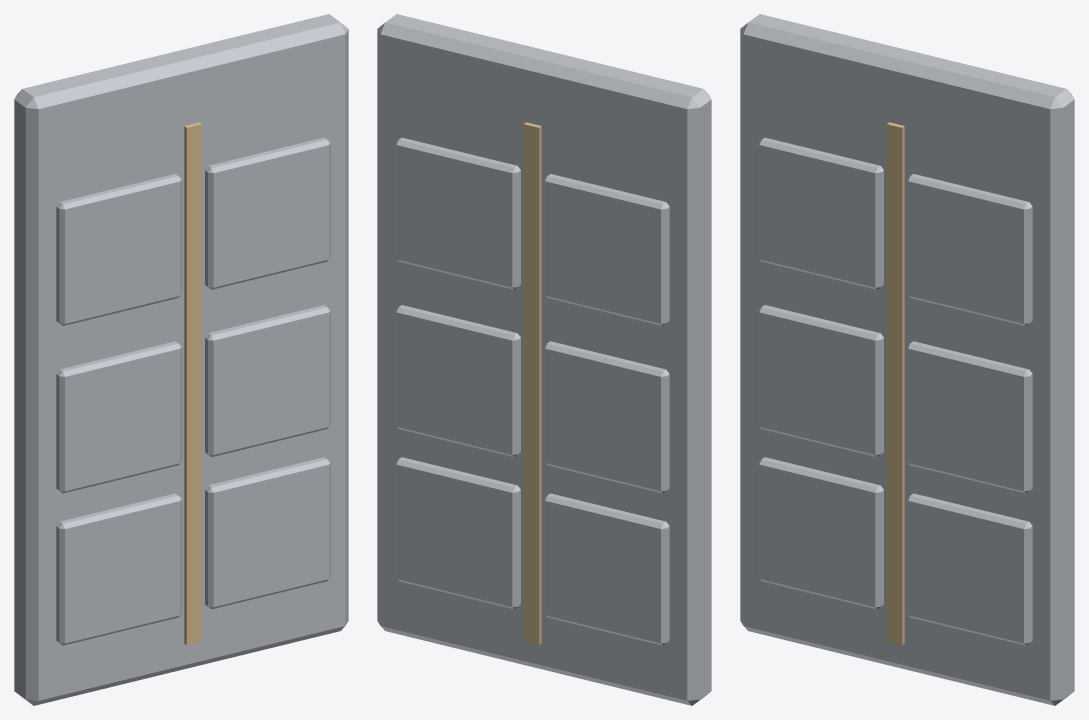
File: bastion.shell_slab.glb
3 views of the same model, side by side, from view 1: azimuth 30°, elevation 25°; view 2: azimuth 150°, elevation 25°; view 3: azimuth 330°, elevation 25° (orthographic).
Size of the model in its own units: 5 by 9 by 0.84.
